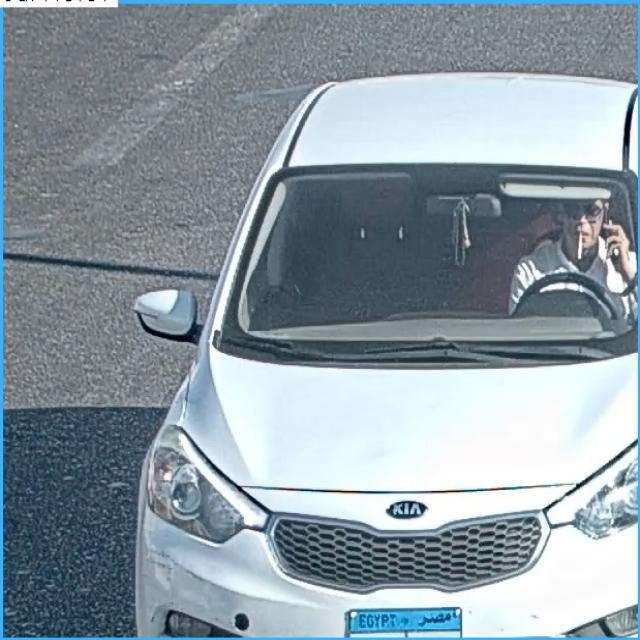windshield: (238, 173, 637, 350)
